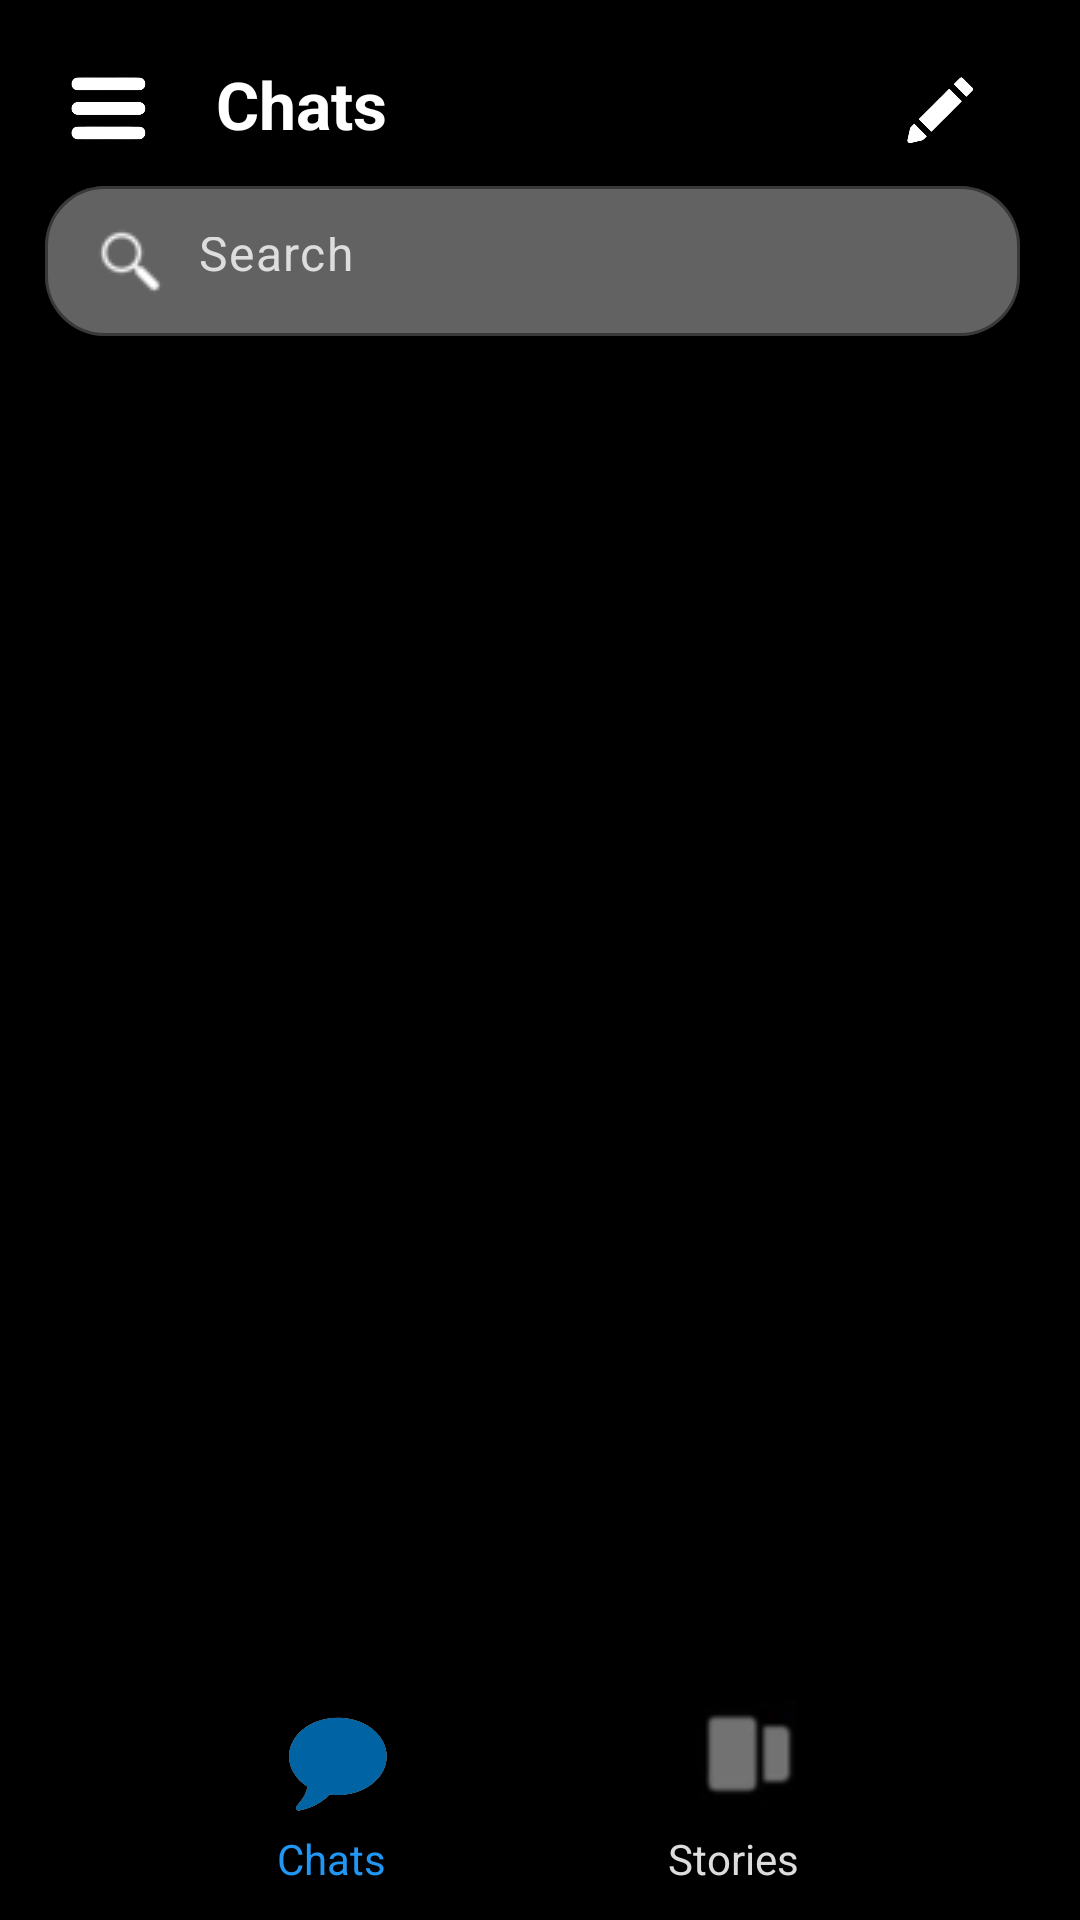

Point at icon controls on the screen. Image size 1080x1920, points as point (x, y).
menu: point (108, 108)
pencil: point (940, 110)
